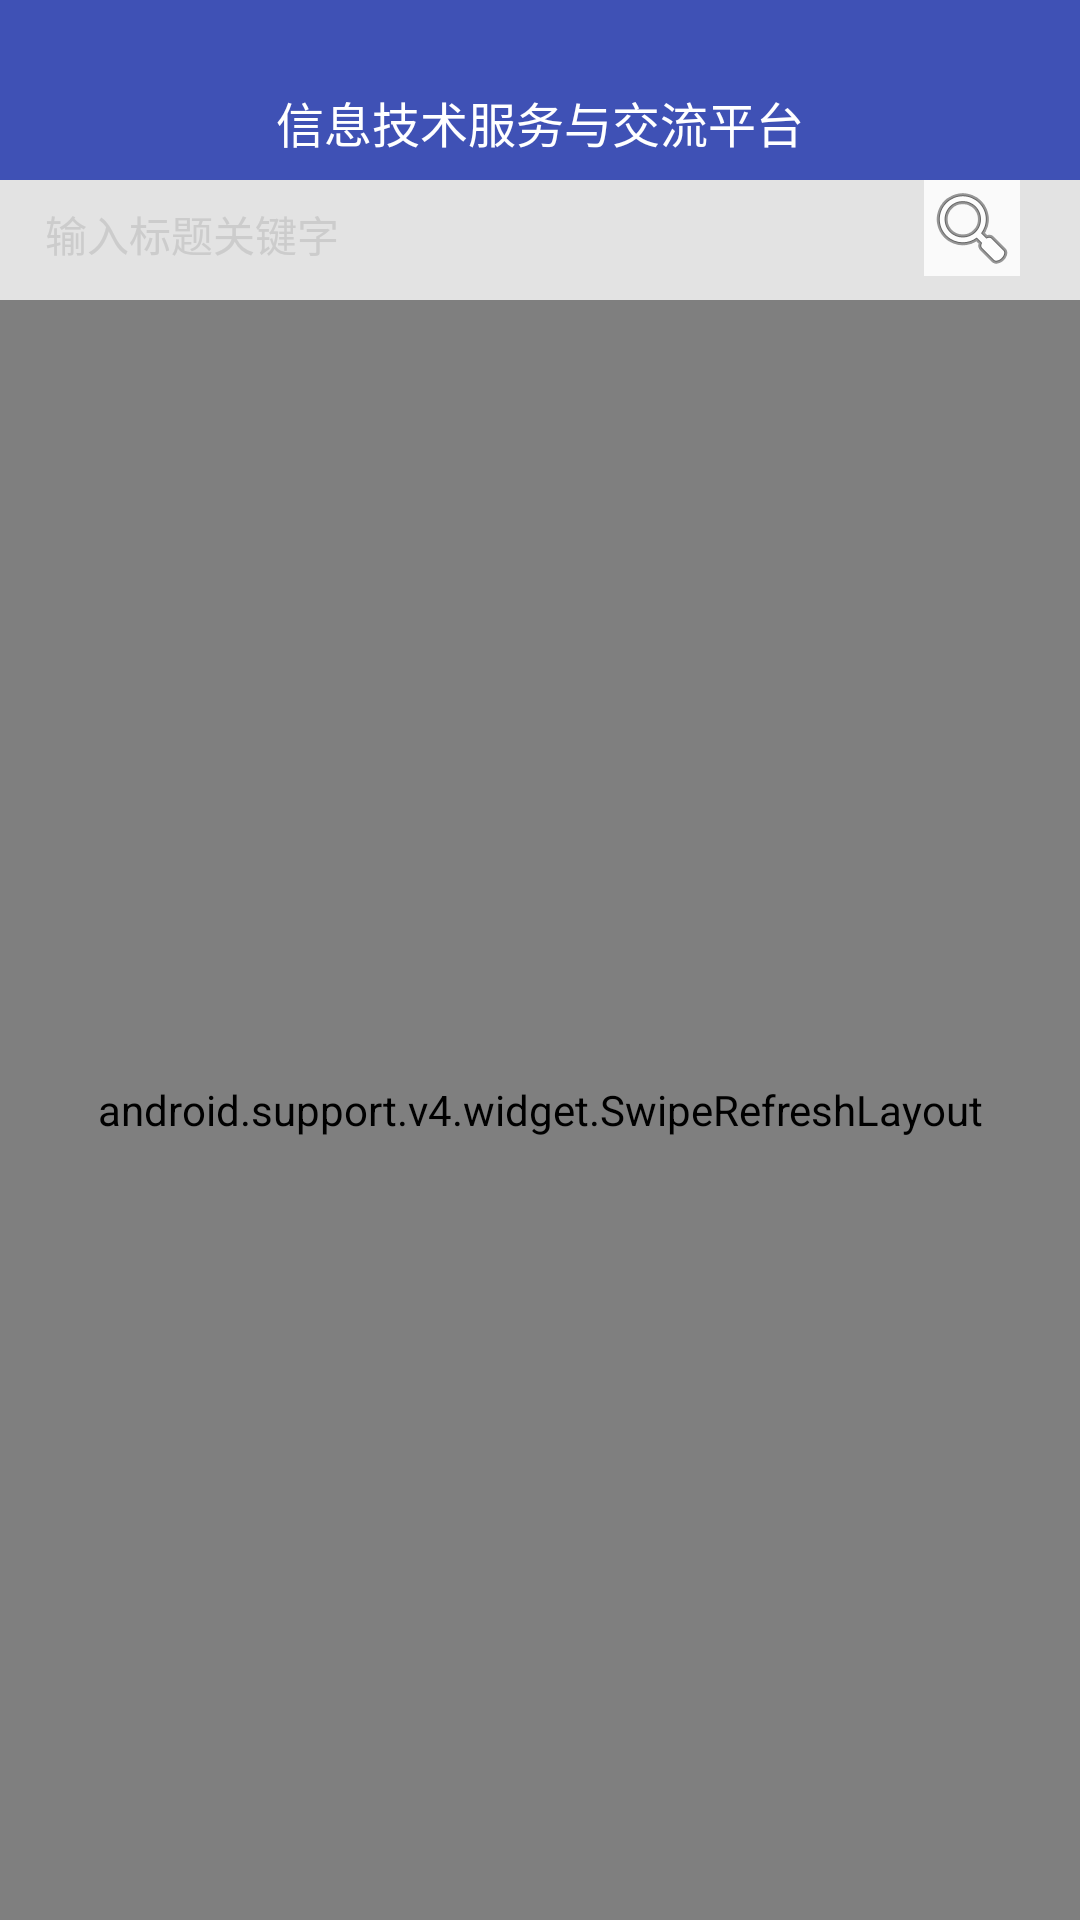

Icon bounding boxes for this 1080 × 1920 phone screenshot, format [x1=x1, y1=y1, x2=x2, y2=y2]:
search: [x1=924, y1=180, x2=1020, y2=276]
